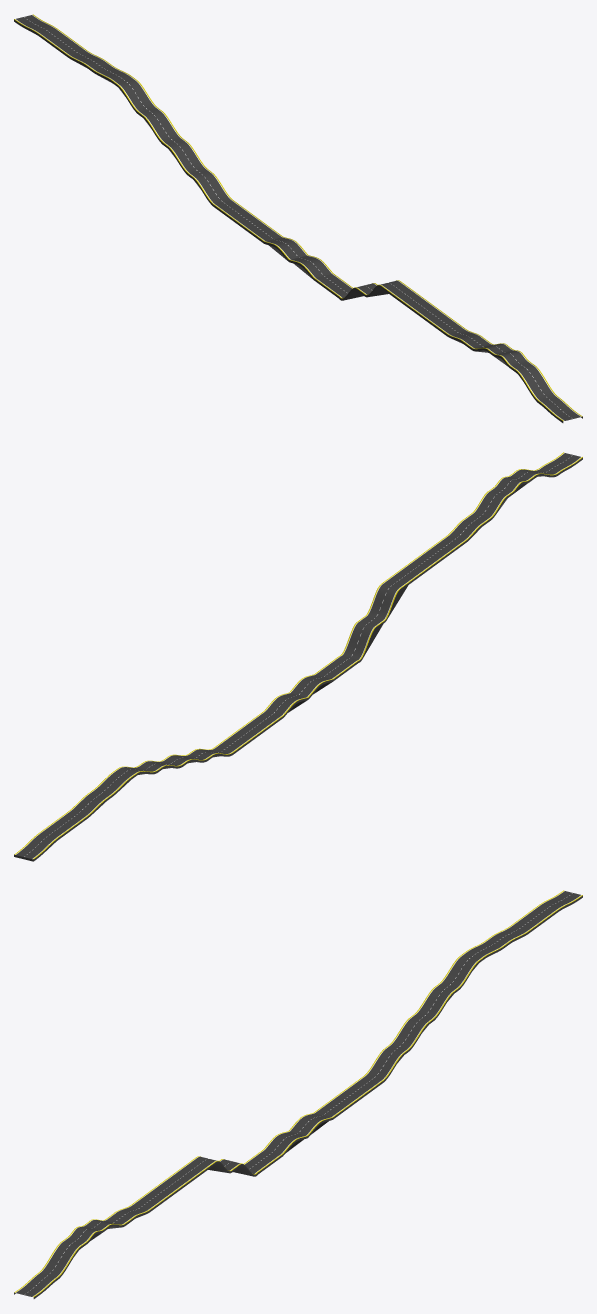
File: platformfinal2.1.fbx
3 renders of one model, top to bottom at view 1: azimuth 30°, elevation 25°; view 2: azimuth 150°, elevation 25°; view 3: azimuth 330°, elevation 25°, orthographic.
Visible parts, largest first — view 1: Cube; view 2: Cube; view 3: Cube.
Boxes of the visible parts, x1=… form: Cube: x1=14, y1=14, x2=582, y2=422; Cube: x1=14, y1=452, x2=582, y2=861; Cube: x1=14, y1=890, x2=582, y2=1298.
Bounding box in the file's own units: 572 × 1730 × 27828.
1 material, 1 textured.
